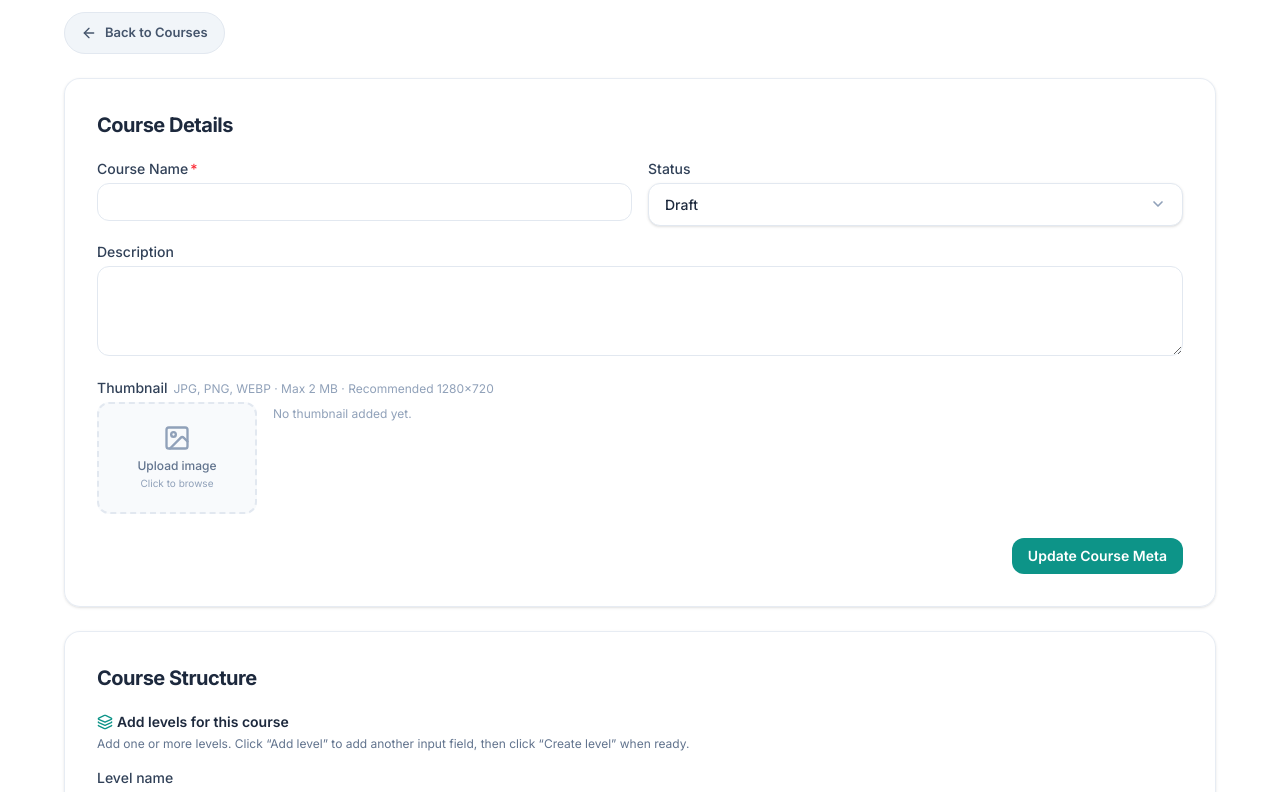
Test: InstituteAdminCourseBuilder – course details form › allows changing status dropdown to "Published"
This screenshot has width=1280, height=792.
Check: the text "Status" is shown, box left=648, top=160, right=691, bottom=176
Click the button named "select…".
click(681, 204)  # box left=648, top=182, right=1183, bottom=226
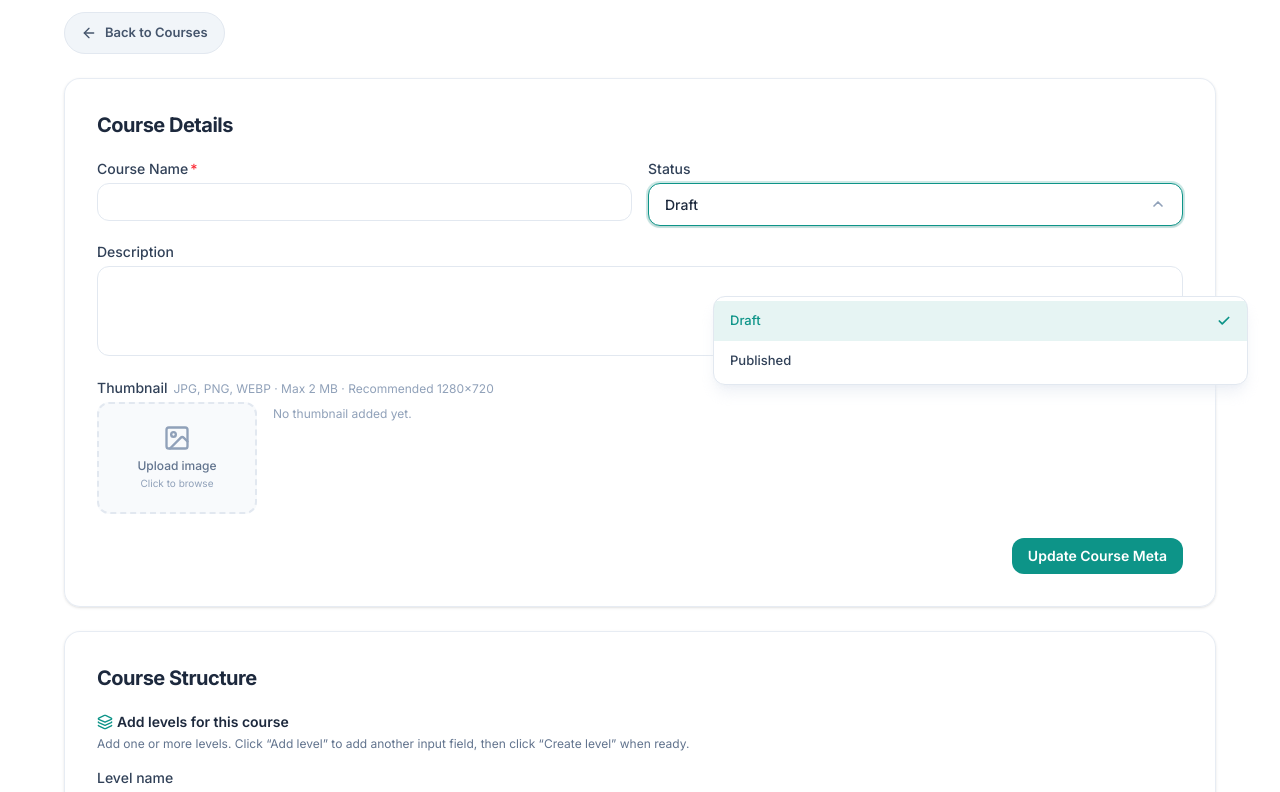
Click the button "Published".
click(761, 360)  # box left=714, top=340, right=1247, bottom=380
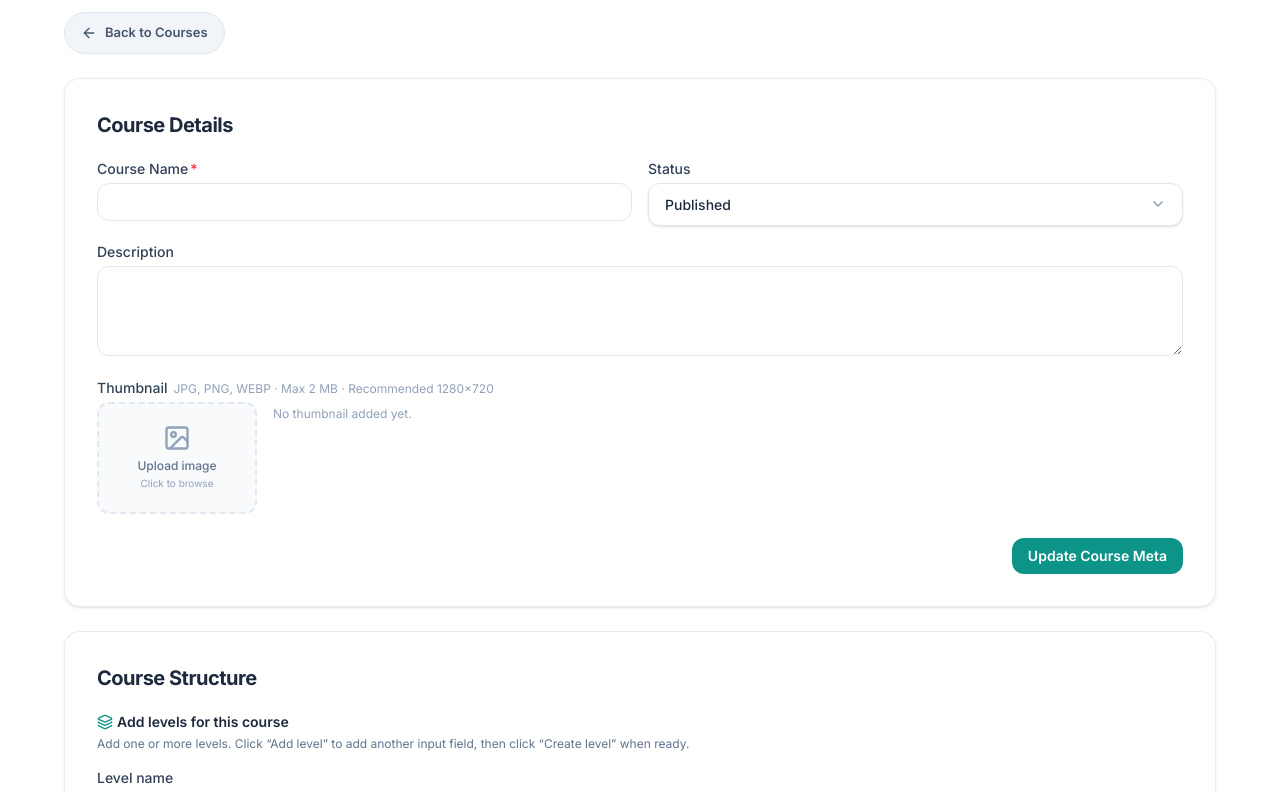
Check: the button named "select…" reads "Published", box left=648, top=182, right=1183, bottom=226
